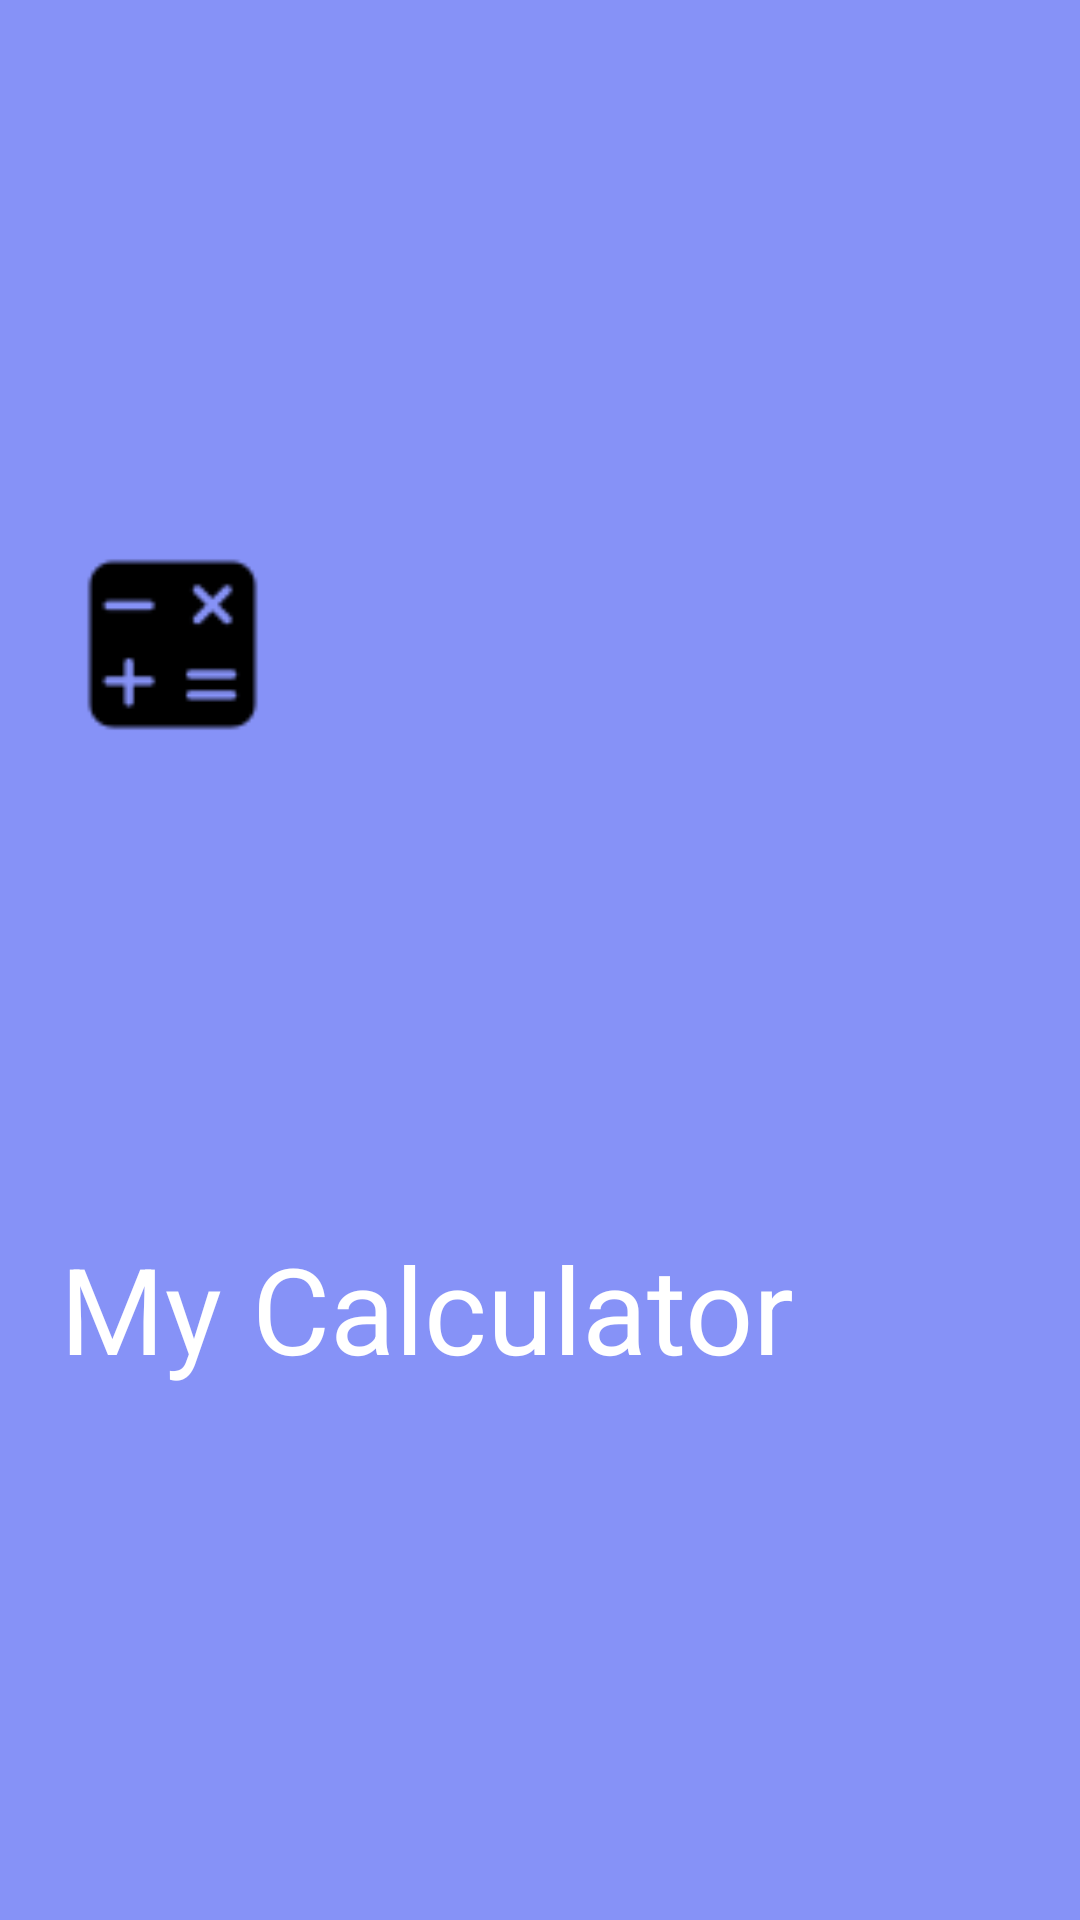

Screen size 1080x1920. Icon name, then its box in pixels as (x1, y1, x2, y2):
Calculator Icon: (87, 559, 258, 730)
